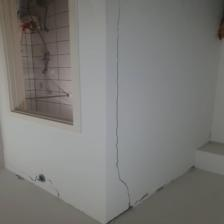Medium: (105, 20, 158, 214)
